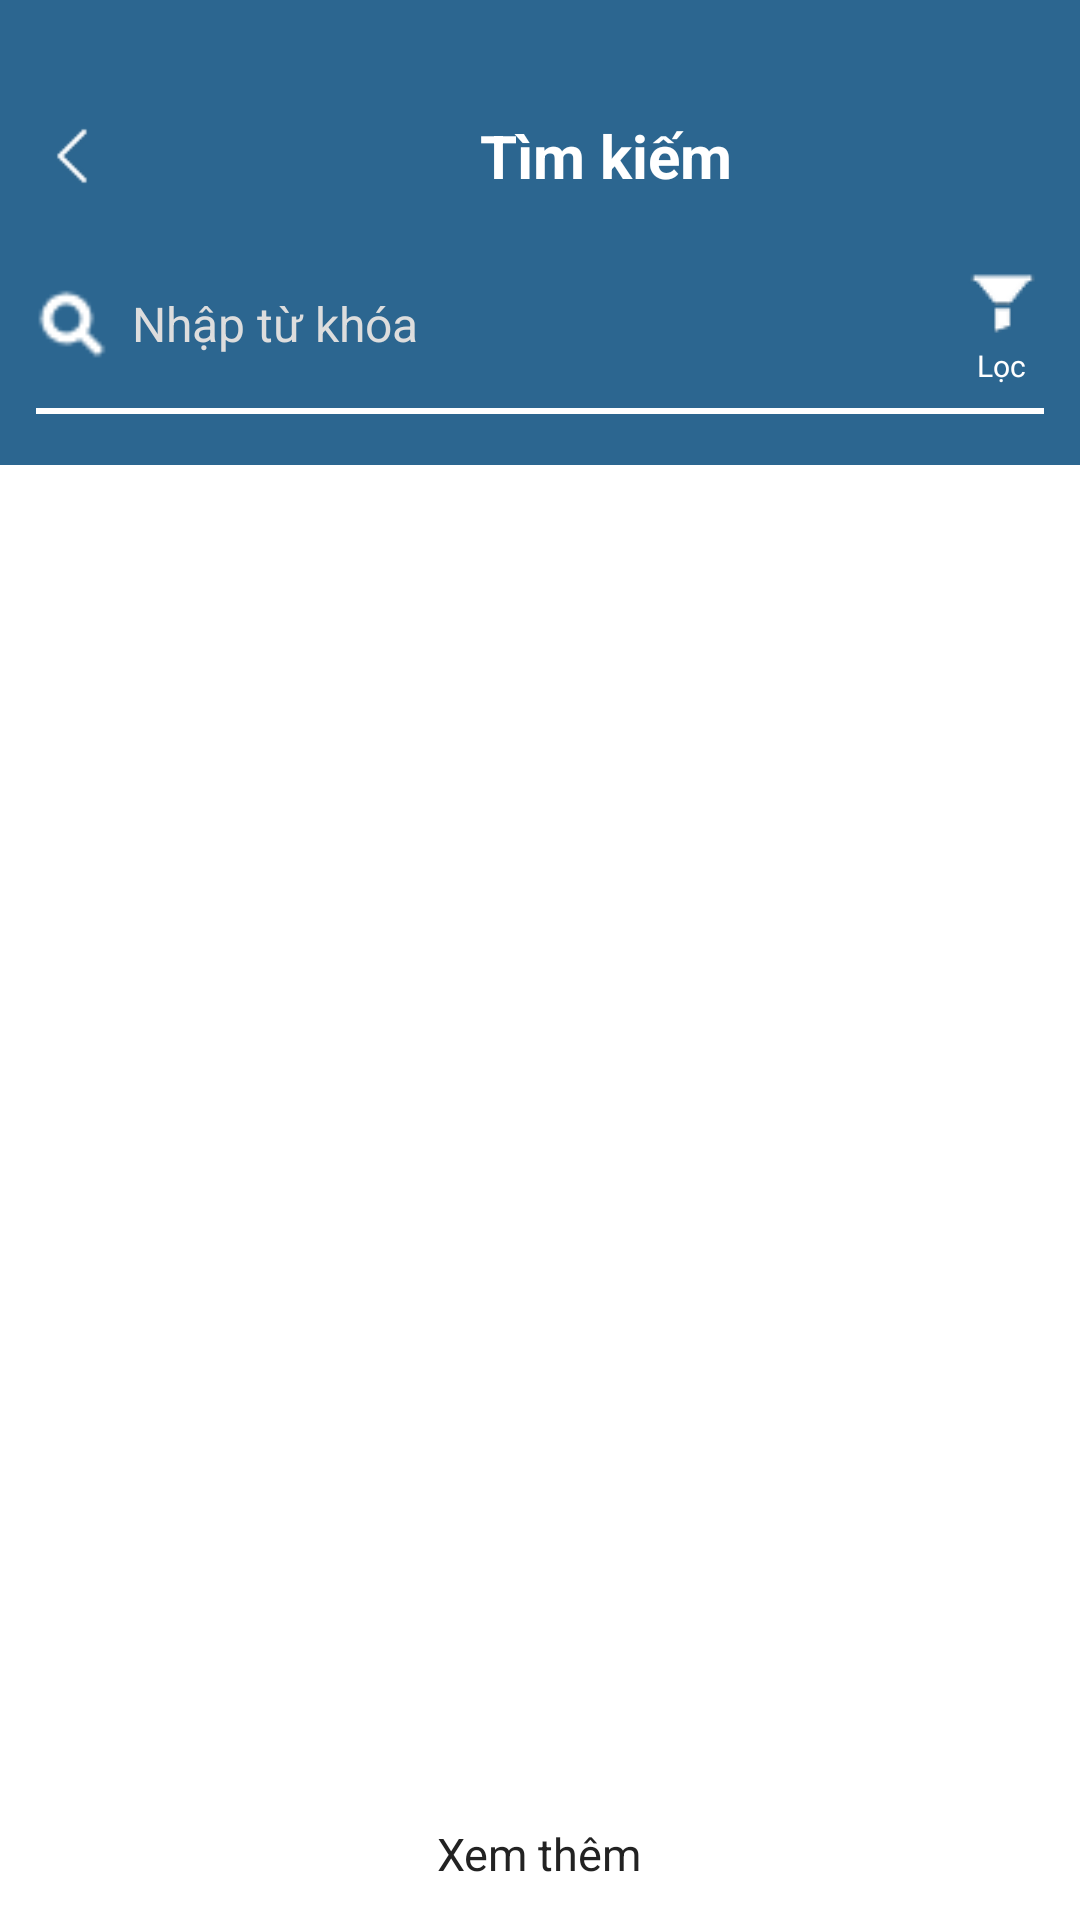

Icons on this 1080px x 1920px Android screen, each with the point to tap as point (x, y):
Quay lại: point (72, 156)
search: point (72, 324)
